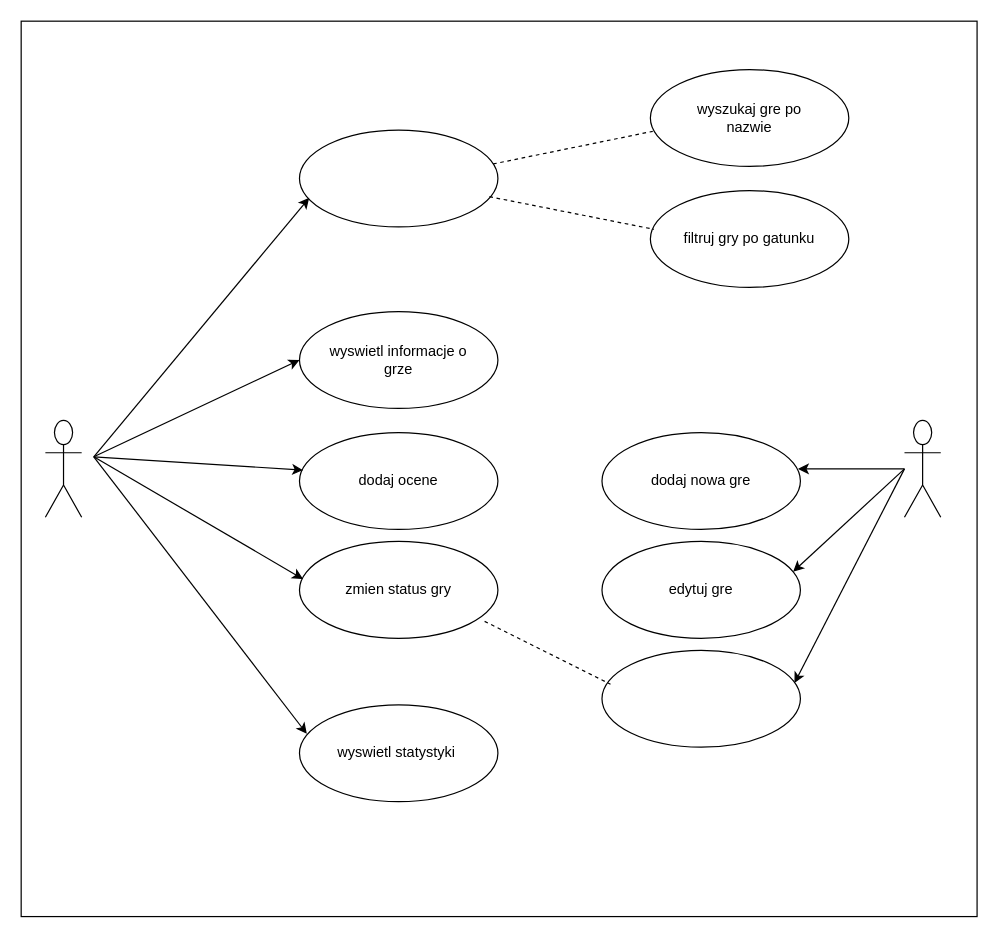
This 998x938 diagram has some shape labels left out. The centre of each missing label's shape, as x and y in pixels:
Administartor: (x=922, y=468)
usun gre: (x=700, y=698)
Uzytkownik: (x=63, y=468)
wyswietl liste gier: (x=398, y=178)
